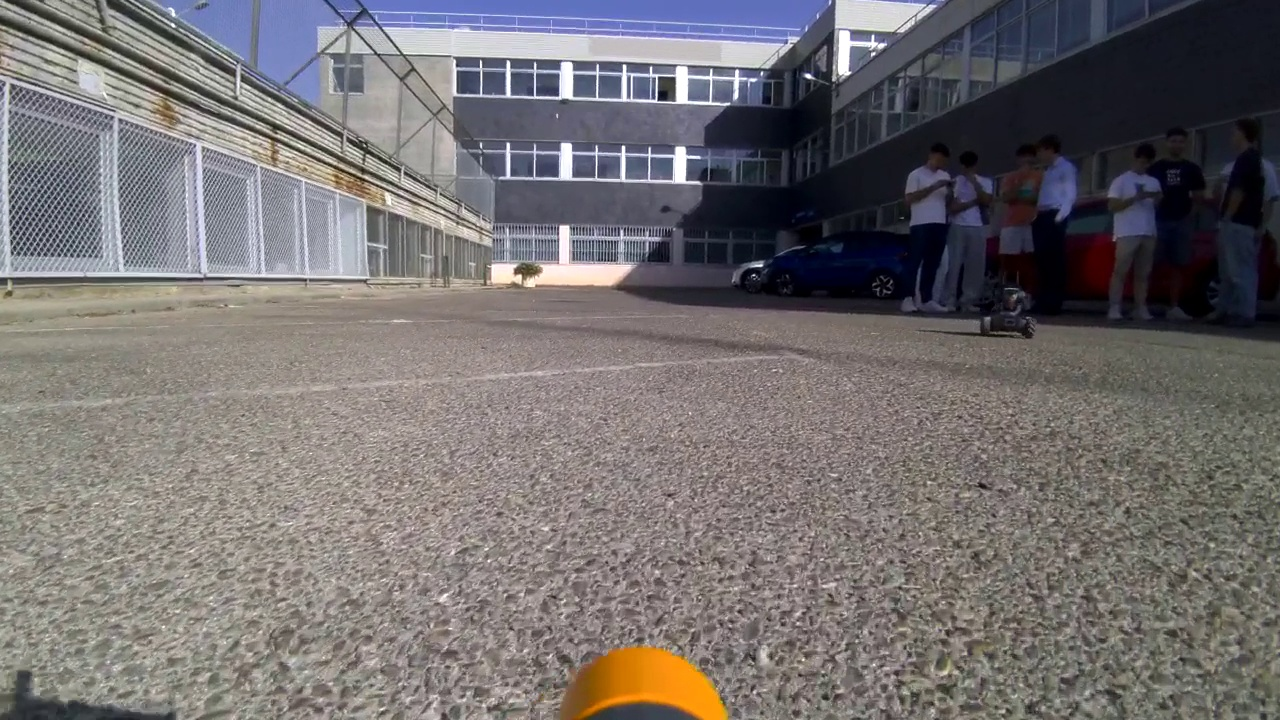robot: (972, 283, 1038, 343)
